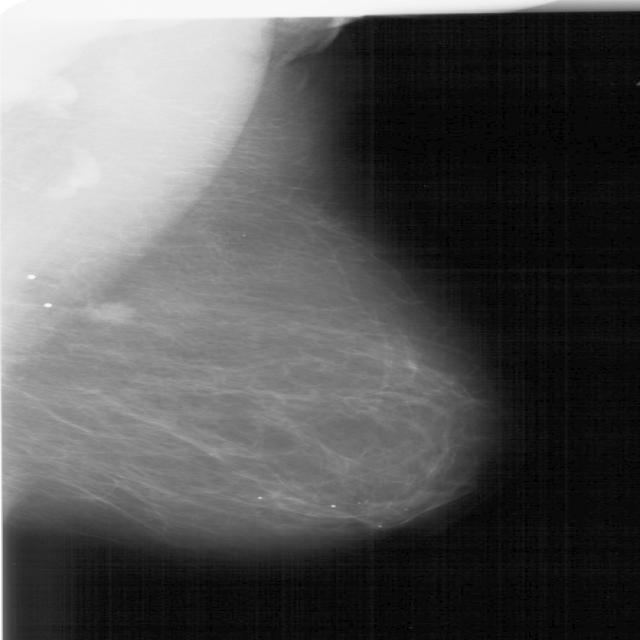tumour: (85, 302, 134, 323)
